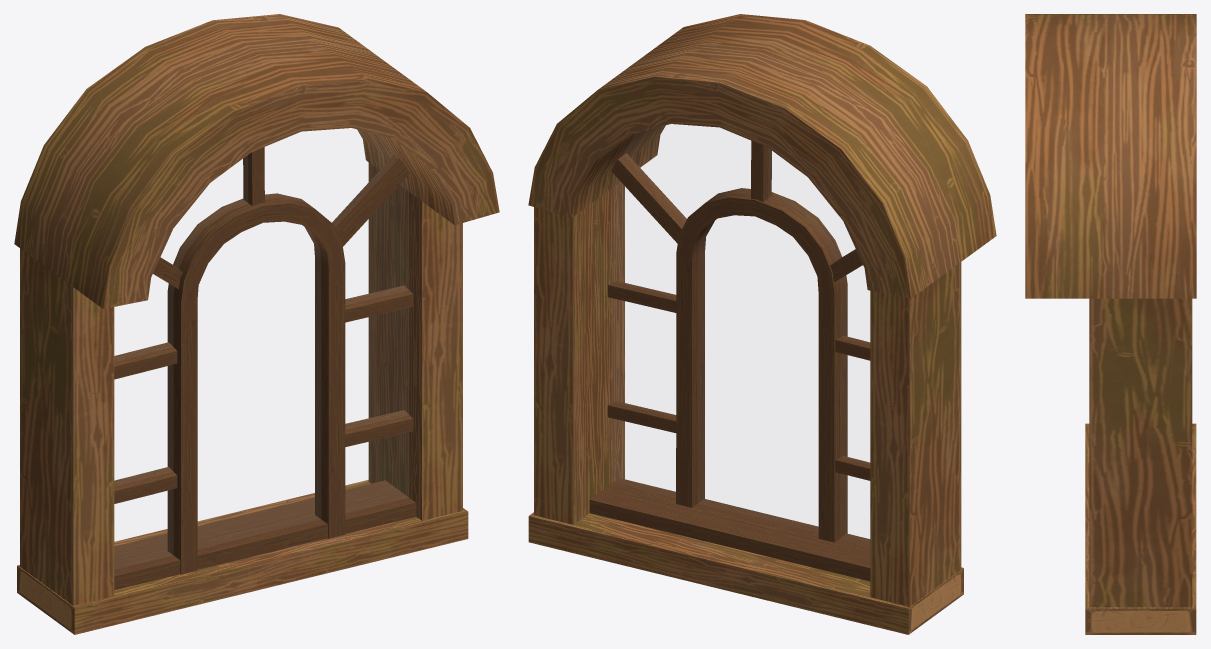
File: Window_Wide_Round1.glb
3 renders of one model, left to right at view 1: azimuth 30°, elevation 25°; view 2: azimuth 150°, elevation 25°; view 3: azimuth 270°, elevation 25°, orthographic. The views are drawn at different scales.
Parts seen in each view (by area): view 1: Window_Wide_Round1; view 2: Window_Wide_Round1; view 3: Window_Wide_Round1.
Boxes of the visible parts, x1=… form: Window_Wide_Round1: x1=14, y1=14, x2=499, y2=634; Window_Wide_Round1: x1=528, y1=14, x2=996, y2=634; Window_Wide_Round1: x1=1025, y1=14, x2=1196, y2=634.
Size of the model in its own units: 1.36 by 1.73 by 0.5297.
Materials: 2 (1 with a texture image).
